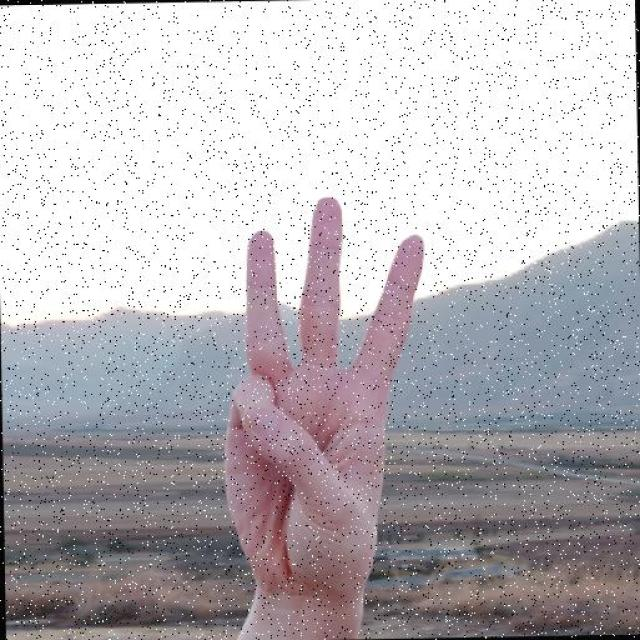W: (212, 190, 433, 610)
